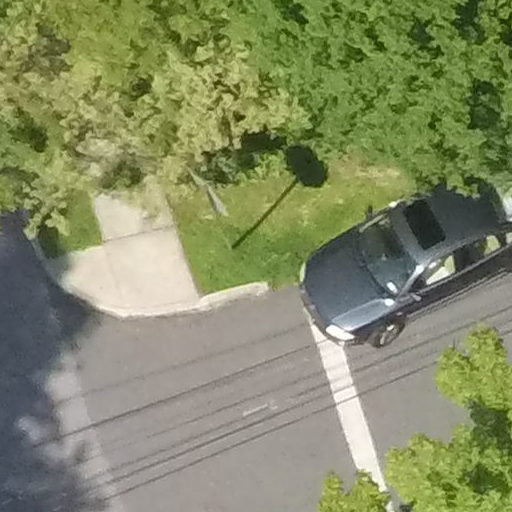car: (307, 167, 512, 367)
